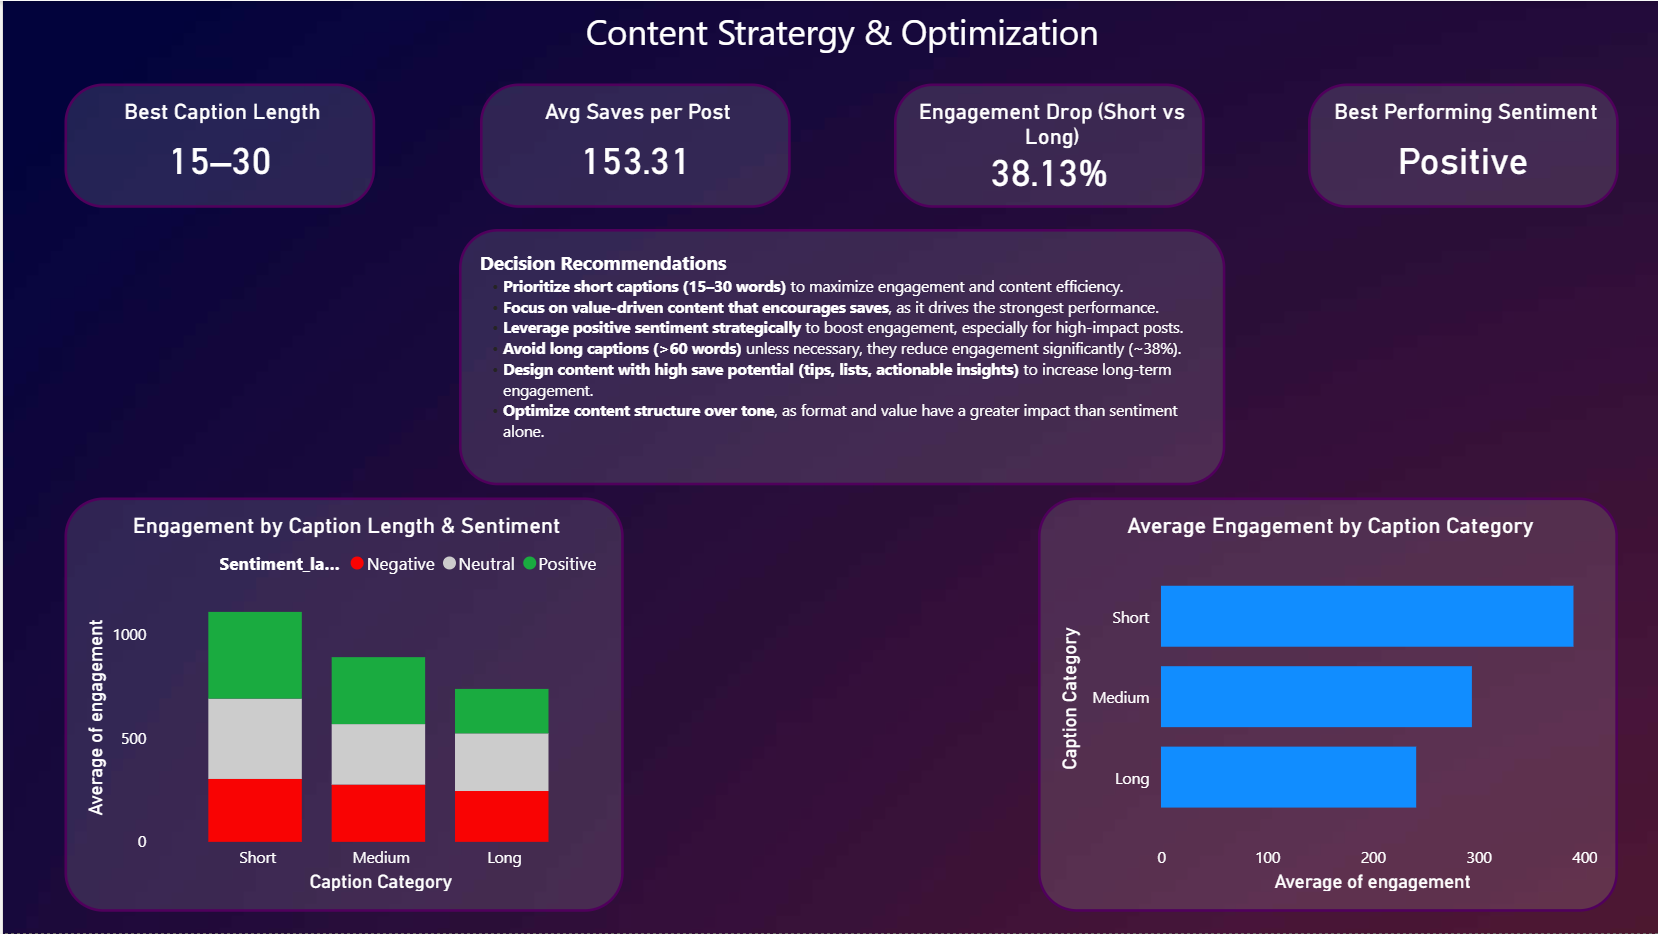

What the dashboard file says about the page in this screenshot:
{"tool":"powerbi","page":{"name":"ContentStratergy","canvas":[1280,720],"ordinal":2},"visuals":[{"type":"textbox","box":[16,0,1264,64],"z":0},{"type":"card","title":"Best Caption Length","fields":{"Values":["Metric Selector.Best Caption Length"]},"box":[48,64,240,96],"z":1000},{"type":"card","title":"Best Performing Sentiment","fields":{"Values":["Metric Selector.Best_Sentiment"]},"box":[1008,64,240,96],"z":2000},{"type":"card","title":"Avg Saves per Post","fields":{"Values":["Avg(final_output.Saves)"]},"box":[368,64,240,96],"z":3000},{"type":"card","title":"Engagement Drop (Short vs Long)","fields":{"Values":["Metric Selector.Engagement Drop %"]},"box":[688,64,240,96],"z":4000},{"type":"clusteredBarChart","title":"Average Engagement by Caption Category","fields":{"Category":["final_output.Caption Category"],"Y":["Avg(final_output.engagement)"]},"box":[800,384,448,320],"z":5000},{"type":"columnChart","title":"Engagement by Caption Length & Sentiment","fields":{"Category":["final_output.Caption Category"],"Series":["final_output.sentiment_label"],"Y":["Avg(final_output.engagement)"]},"box":[48,384,432,320],"z":6000},{"type":"textbox","box":[352,176,592,198],"z":7000}]}

Visuals, with their boxes in screenshot pixels (x1, y1, x2, y2), scaled from the page's 1280x720 canvas onto the 1658x934 screenshot:
textbox: [x1=21, y1=0, x2=1657, y2=83]
"Best Caption Length" card: [x1=62, y1=83, x2=373, y2=208]
"Best Performing Sentiment" card: [x1=1306, y1=83, x2=1617, y2=208]
"Avg Saves per Post" card: [x1=477, y1=83, x2=788, y2=208]
"Engagement Drop (Short vs Long)" card: [x1=891, y1=83, x2=1202, y2=208]
"Average Engagement by Caption Category" clusteredBarChart: [x1=1036, y1=498, x2=1617, y2=913]
"Engagement by Caption Length & Sentiment" columnChart: [x1=62, y1=498, x2=622, y2=913]
textbox: [x1=456, y1=228, x2=1223, y2=485]
